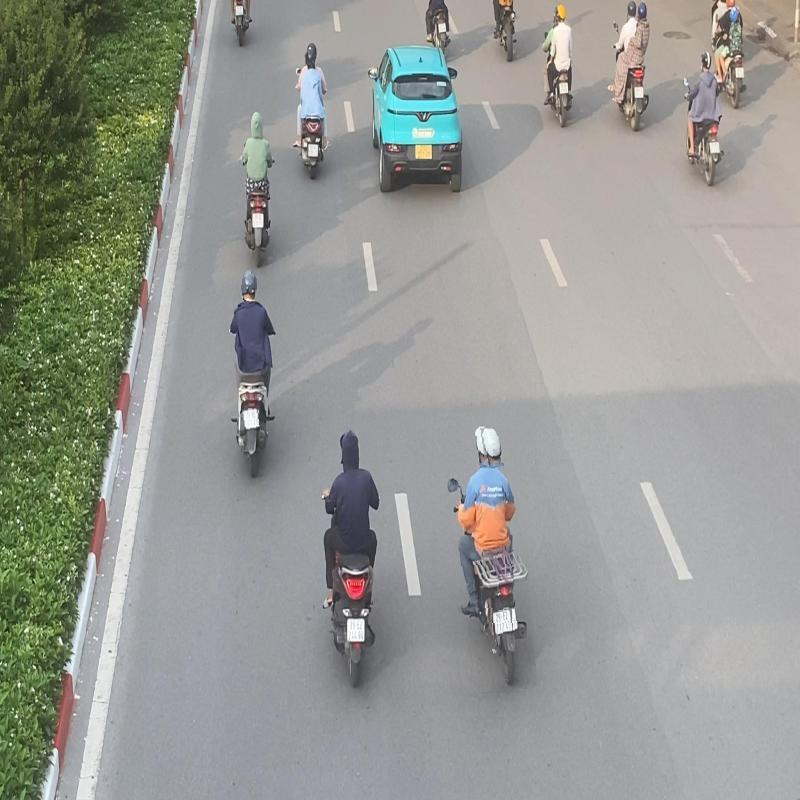helmet: (481, 426, 504, 468), (241, 269, 258, 300)
licenseplate: (492, 610, 514, 636), (243, 408, 261, 430)
motorcyclist: (448, 422, 532, 693), (228, 267, 277, 480)
